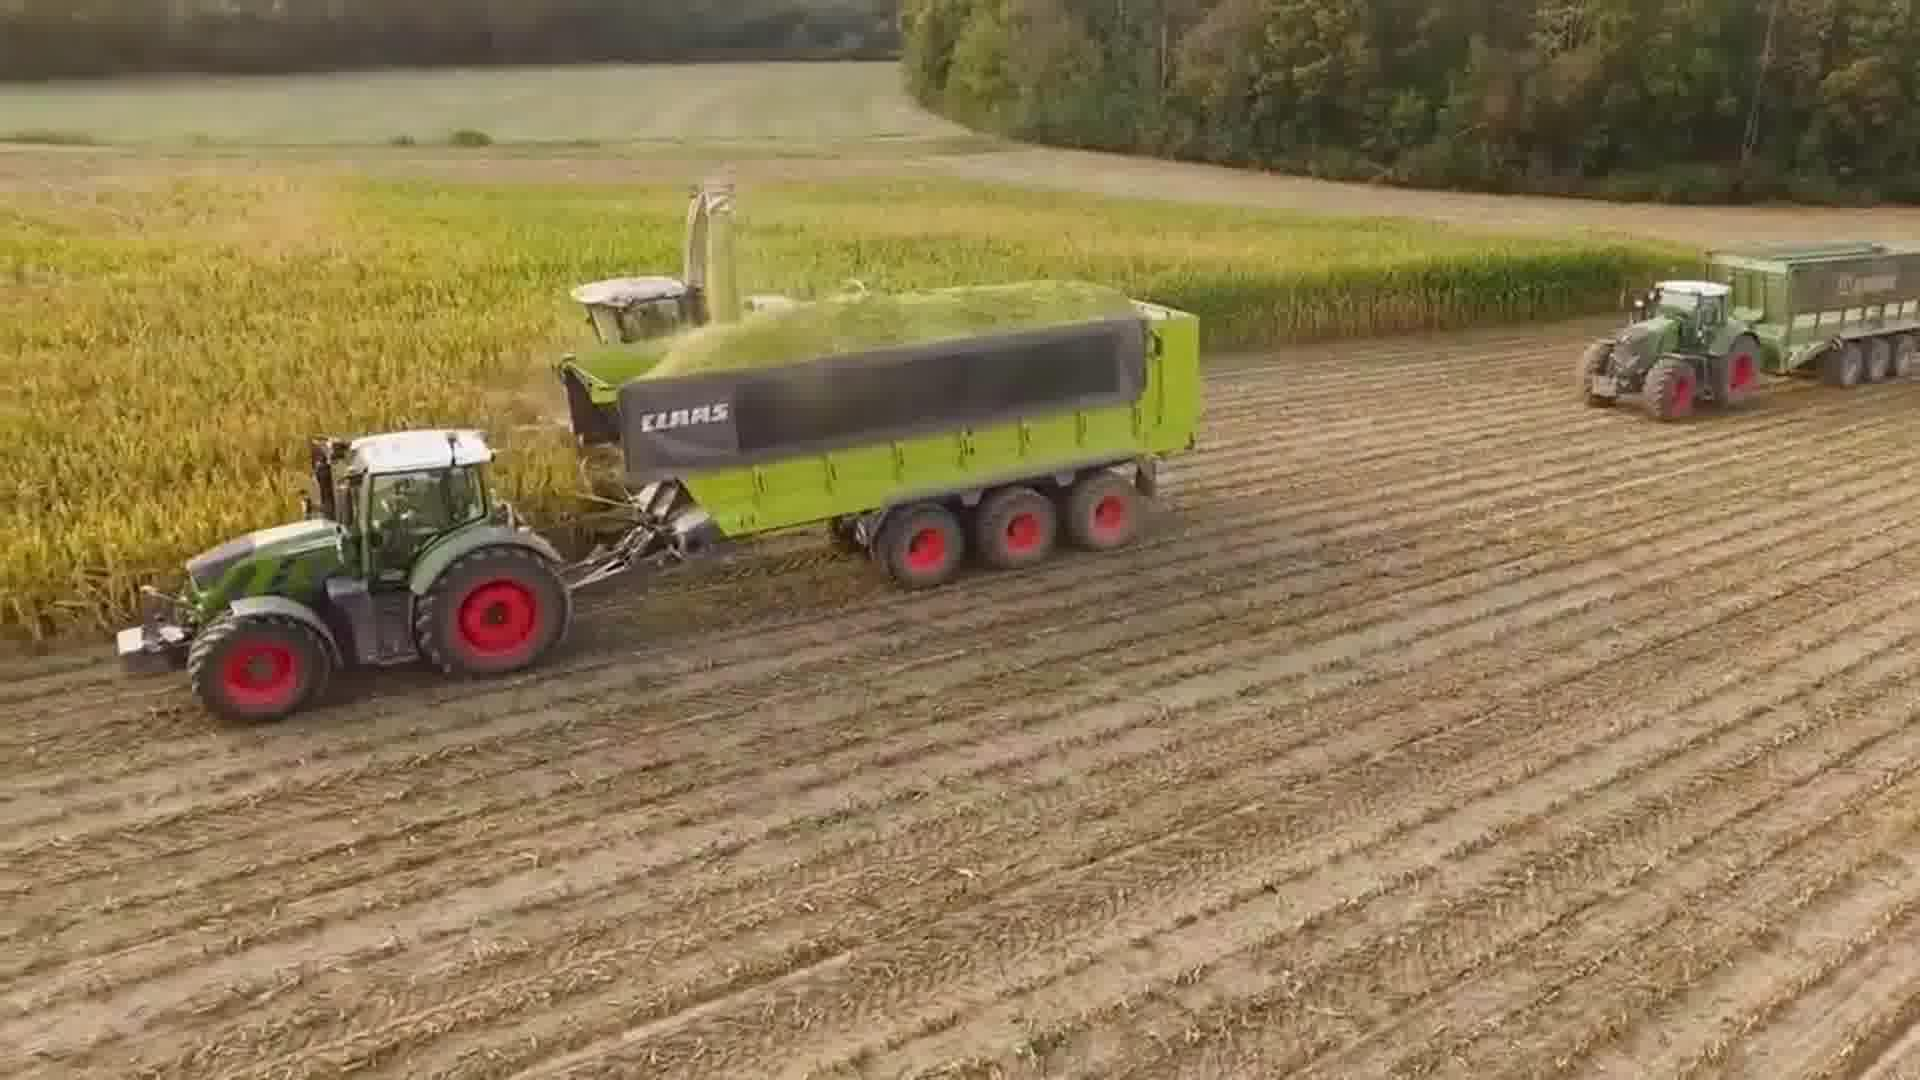combine harvester: (559, 171, 803, 344)
tractor: (99, 406, 583, 731), (1571, 268, 1766, 425)
trailer: (551, 273, 1213, 596), (1695, 235, 1920, 398)
